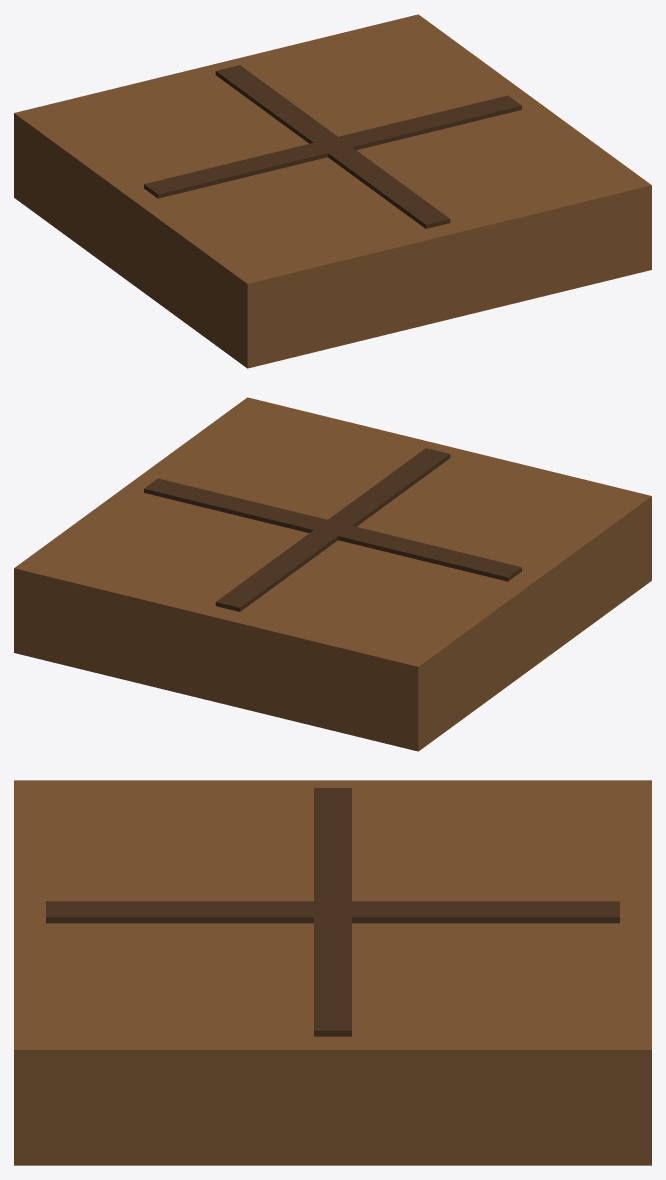
File: module_hatch.glb
3 views of the same model, one above another, from view 1: azimuth 30°, elevation 25°; view 2: azimuth 150°, elevation 25°; view 3: azimuth 270°, elevation 25° (orthographic). The views are drawn at different scales.
Parts seen in each view (by area): view 1: body; view 2: body; view 3: body.
Part boxes in pixels (left/top/right/bottom): body: left=14, top=14, right=651, bottom=368; body: left=14, top=397, right=651, bottom=751; body: left=14, top=780, right=651, bottom=1165.
Size of the model in its own units: 1 by 0.21 by 1.
